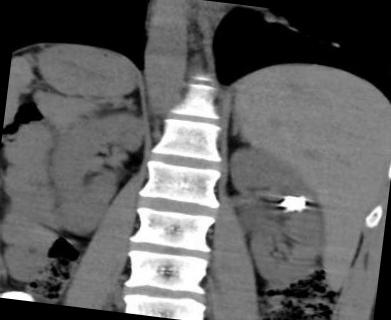Tas_Var: (272, 190, 309, 218)
